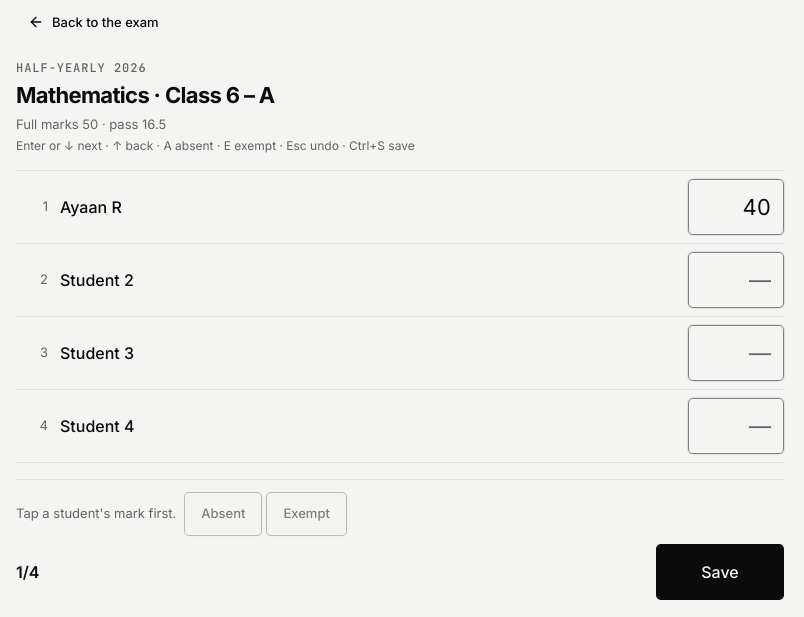
MarksEntry › a saved mark cannot be emptied
Clear the field named "Ayaan R" at (736, 206), box [688,178,784,234]
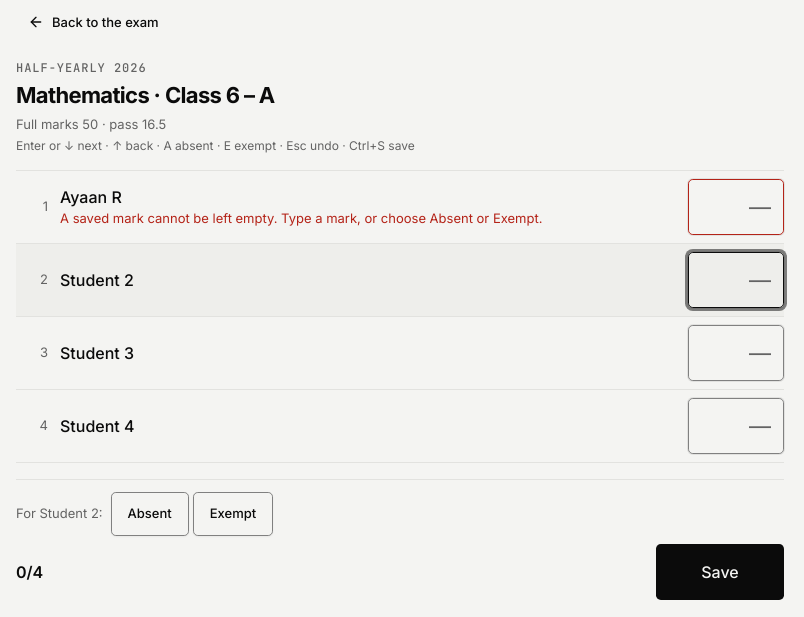
Result: the text "A saved mark cannot be left empty. Type a mark, or choose Absent or Exempt." is shown at [60,210,542,226]
